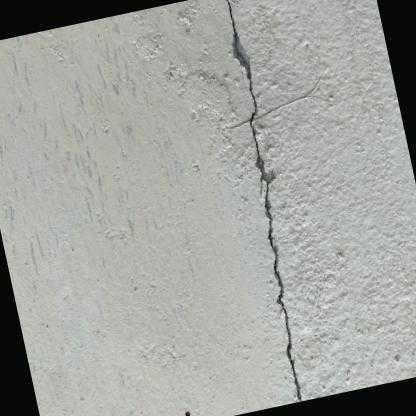crack: (225, 0, 302, 400)
